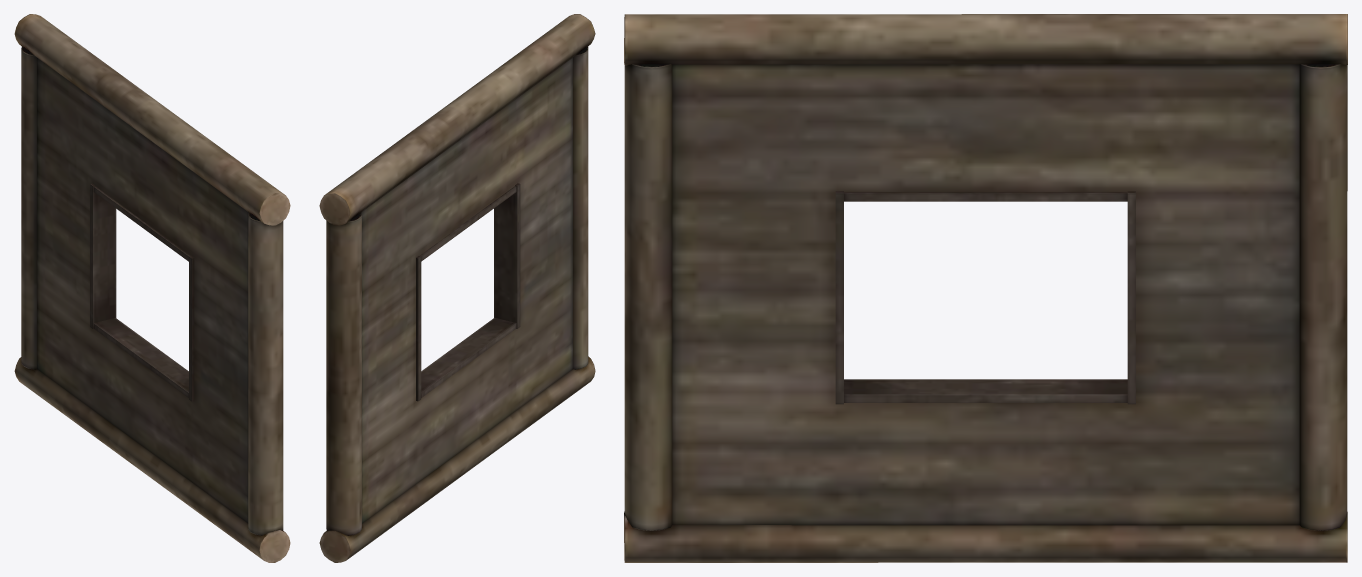
File: SM_WallWindow_Wood_69481c.glb
3 views of the same model, side by side, from view 1: azimuth 30°, elevation 25°; view 2: azimuth 150°, elevation 25°; view 3: azimuth 270°, elevation 25° (orthographic). The views are drawn at different scales.
Size of the model in its own units: 0.2918 by 3.34 by 4.01.
Materials: 1 (1 with a texture image).
